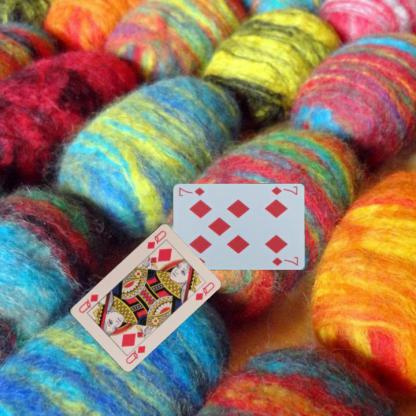7d: (269, 184, 298, 196)
Qd: (123, 338, 147, 365), (144, 228, 167, 250)
